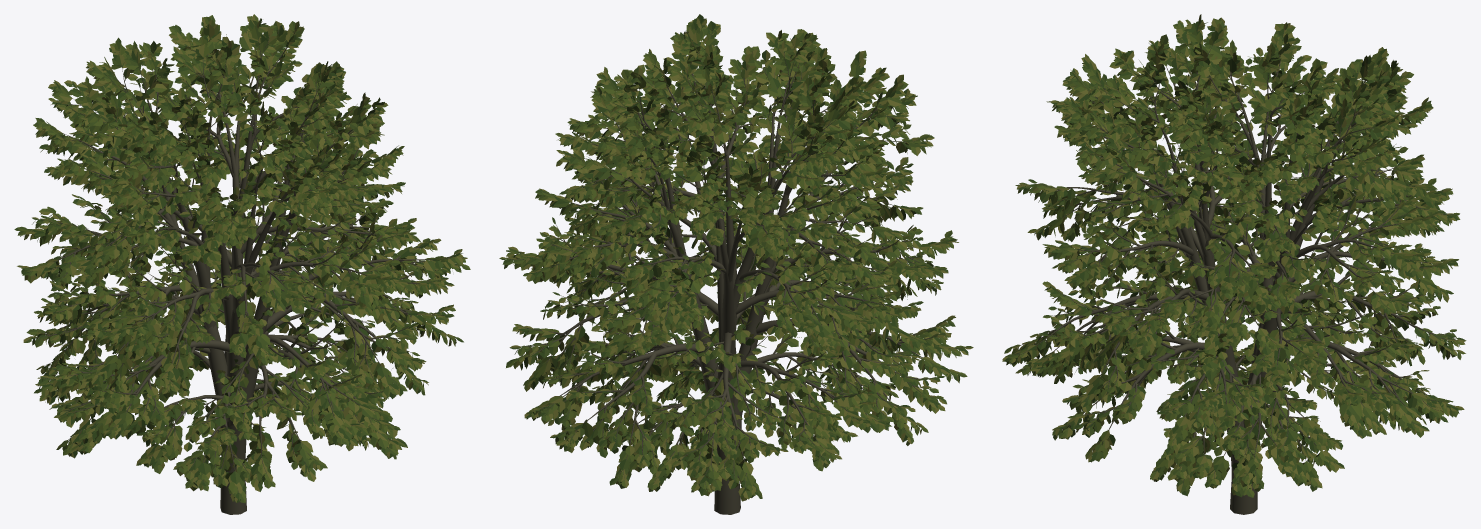
Rendered from river_maple_0.glb.
3 views of the same model, side by side, from view 1: azimuth 30°, elevation 25°; view 2: azimuth 150°, elevation 25°; view 3: azimuth 270°, elevation 25° (orthographic).
Parts seen in each view (by area): view 1: PendantLeaves2, TrunkAndWhips2; view 2: PendantLeaves2, TrunkAndWhips2; view 3: PendantLeaves2, TrunkAndWhips2.
Boxes of the visible parts, bbox=[...] form: PendantLeaves2: bbox=[14, 14, 470, 503]; TrunkAndWhips2: bbox=[25, 28, 459, 514]; PendantLeaves2: bbox=[499, 14, 973, 501]; TrunkAndWhips2: bbox=[508, 28, 961, 514]; PendantLeaves2: bbox=[1002, 14, 1466, 497]; TrunkAndWhips2: bbox=[1014, 25, 1458, 514].
Bounding box in the file's own units: 9.1 × 9.95 × 8.94.
